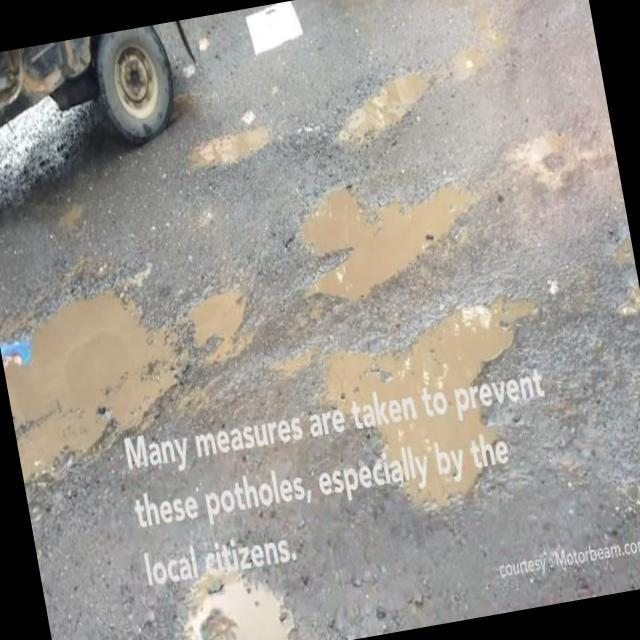Burst: (320, 298, 538, 515), (19, 297, 168, 488), (287, 179, 482, 309), (165, 555, 303, 640), (183, 119, 287, 200), (336, 68, 430, 155)
